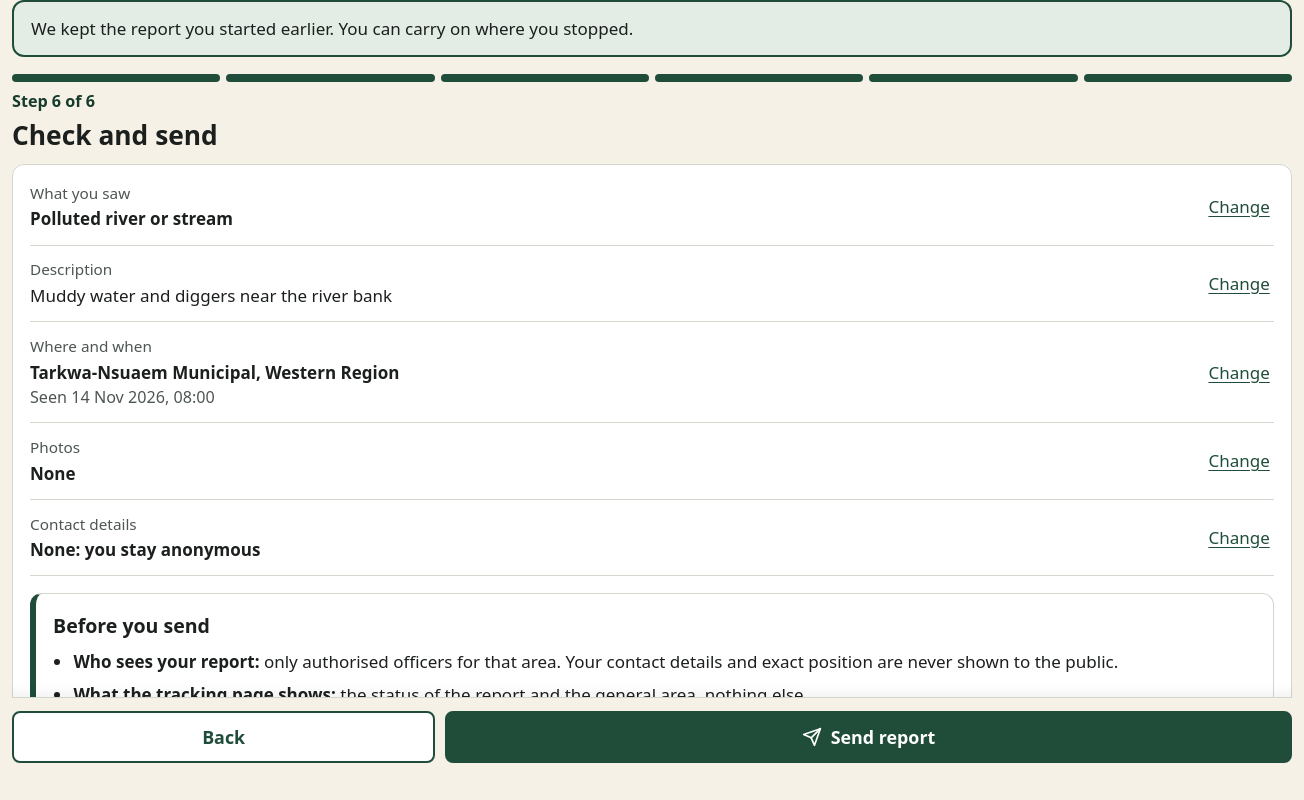
Scenario: place, position and photos › asks reporters not to photograph faces, especially children
expect the heading "Check and send" is shown: met, box [12, 116, 218, 152]
Click the button with aria-label "Change photos" at [1239, 461], box [1204, 439, 1274, 483]
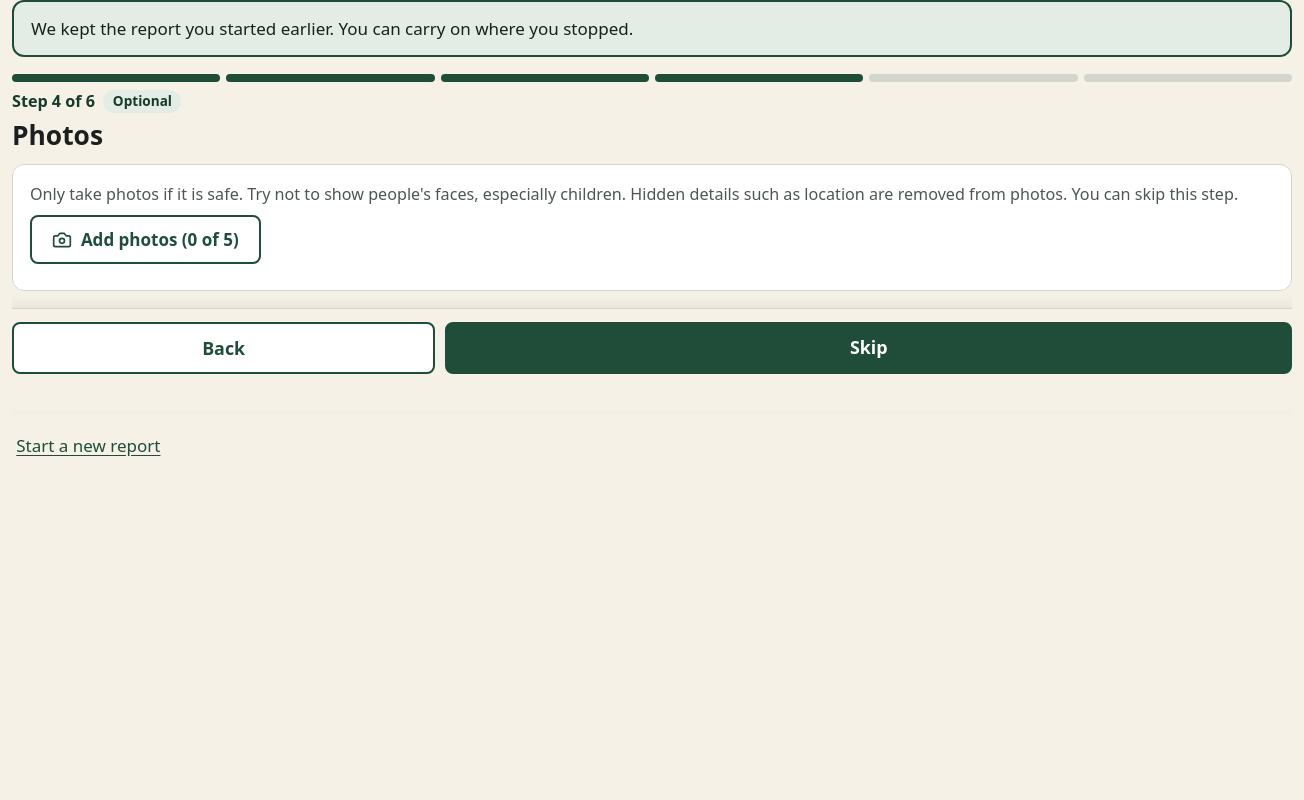
expect the text "Try not to show people's faces, especially children" is shown: met, box [30, 183, 1238, 205]
